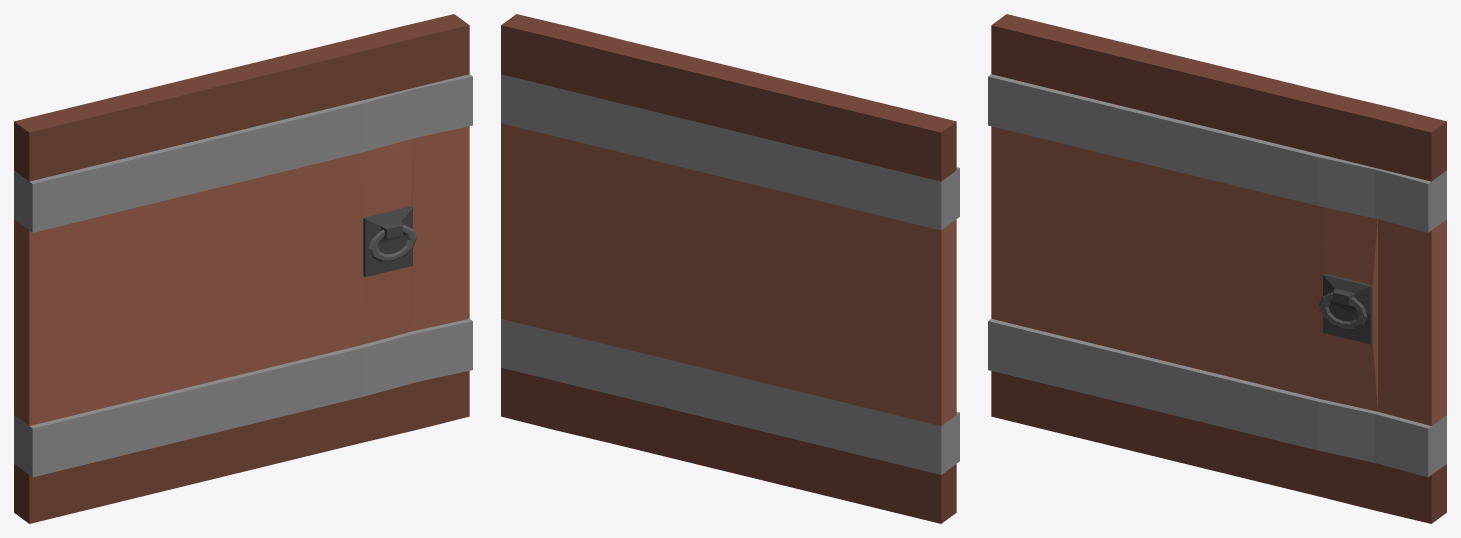
Rendered from Door.fbx.
3 renders of one model, left to right at view 1: azimuth 30°, elevation 25°; view 2: azimuth 150°, elevation 25°; view 3: azimuth 330°, elevation 25°, orthographic.
Visible parts, largest first — view 1: Door; view 2: Door; view 3: Door.
Part boxes in pixels (x1=…): Door: x1=14, y1=14, x2=472, y2=523; Door: x1=501, y1=14, x2=959, y2=523; Door: x1=988, y1=14, x2=1446, y2=523.
Size of the model in its own units: 1.9 by 1.62 by 0.173.
Materials: 1 (1 with a texture image).
